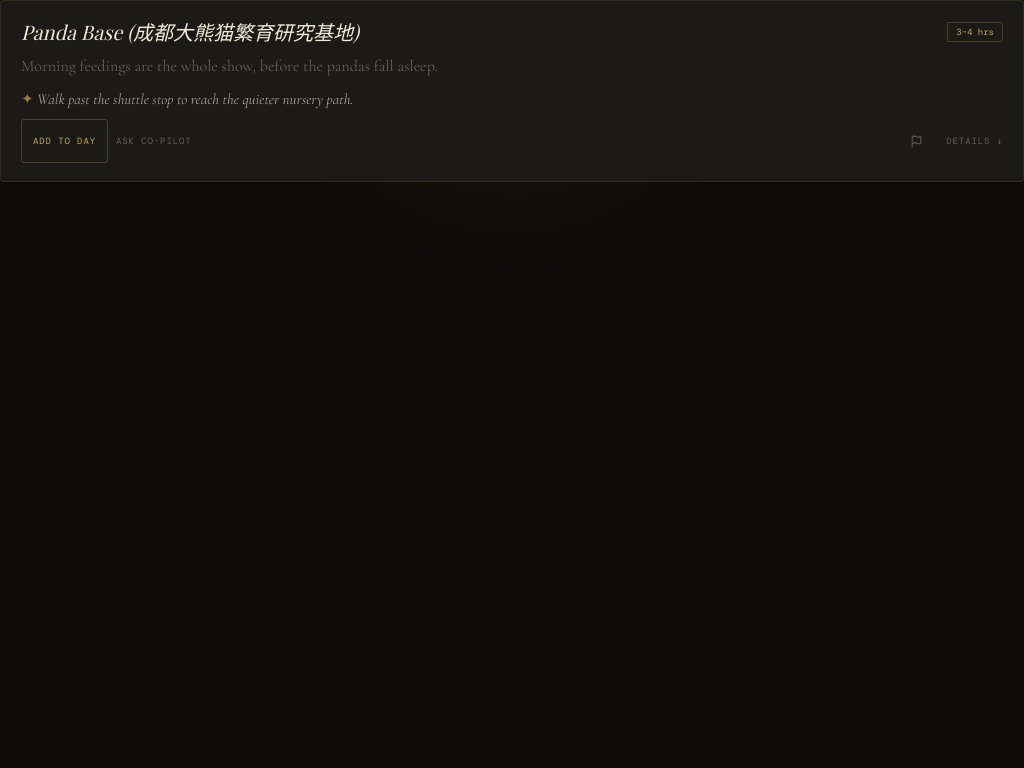
it: SuggestionCard — Option 1b Details contract (Plan 14 Wave 1) › exposes bounded summary content, then reveals full metadata without side effects
Expected: the text "Morning feedings are the whole show, before the pandas fall asleep." is shown, [21,56,438,76]
Expected: the text "Walk past the shuttle stop to reach the quieter nursery path." is shown, [37,90,353,108]
Click the button "Details ↓" at [975, 141], box [946,119,1003,163]
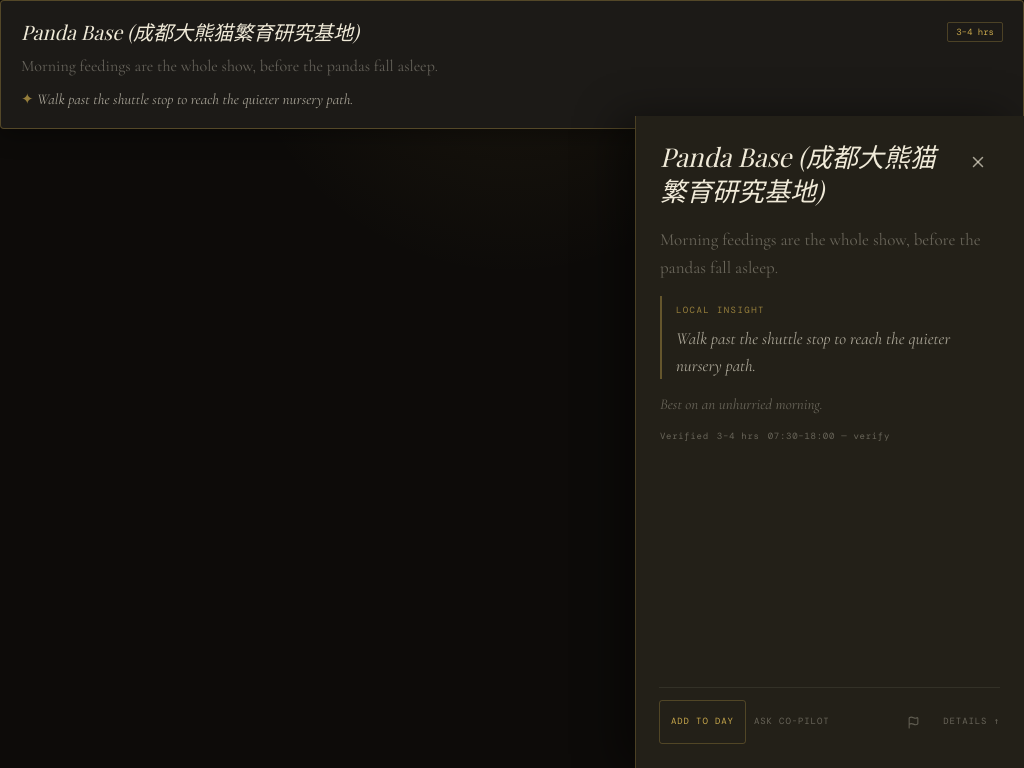
Result: the button "Details ↑" is expanded at [943,700,1000,744]
Result: the text "07:30–18:00 — verify" is shown at [768,430,890,443]
Result: the text "Verified" is shown at [660,430,709,443]
